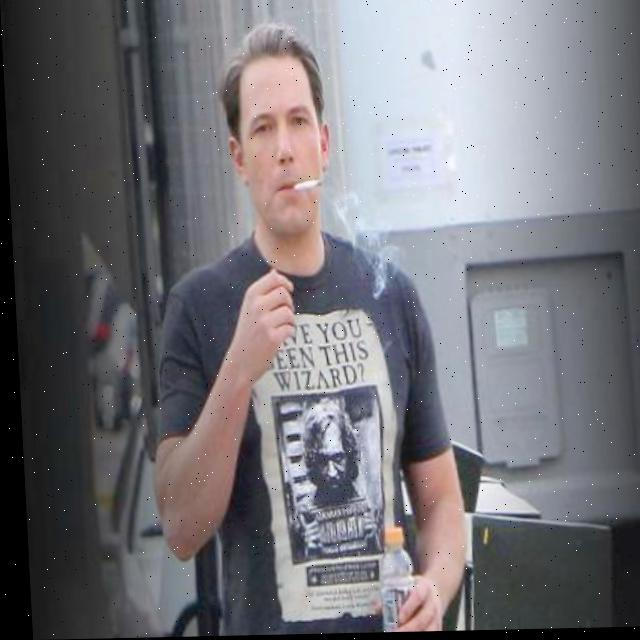cigarette: (288, 178, 324, 195)
